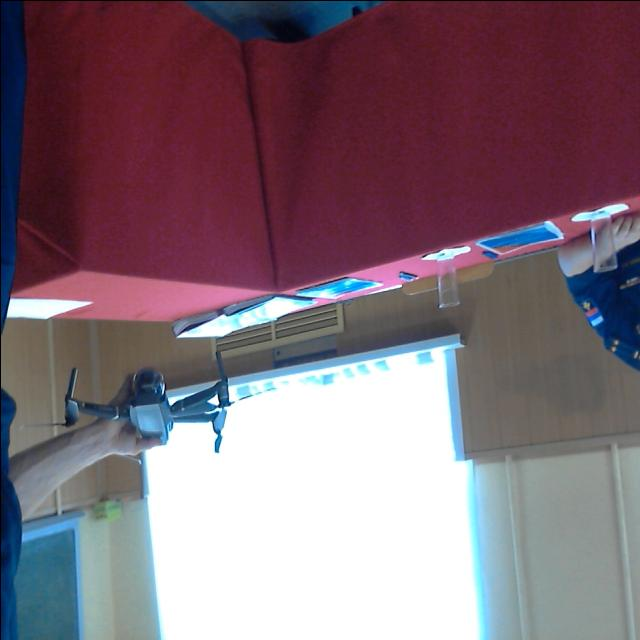drone: (46, 364, 241, 470)
